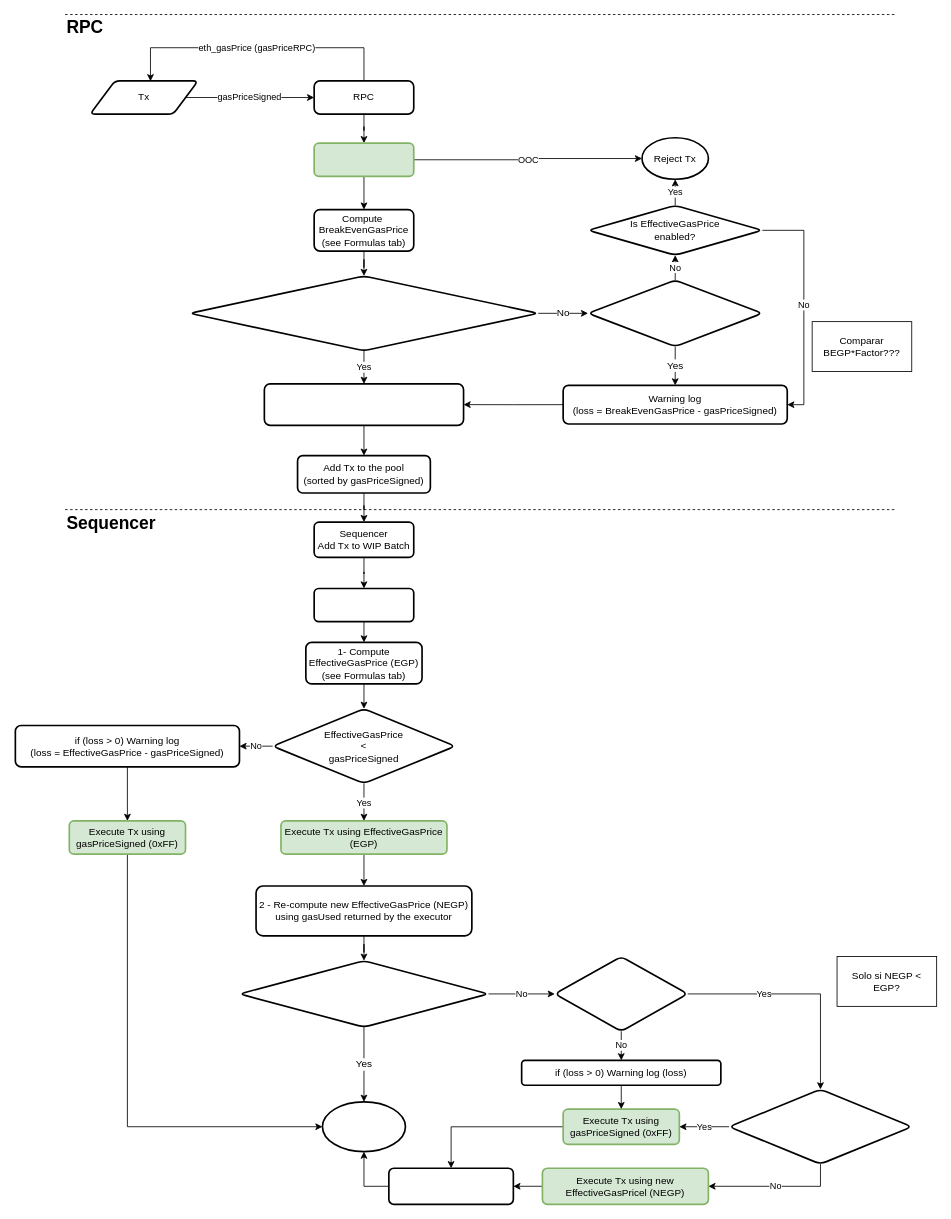
Image size: 951x1219. Some labels were removed from this diagram. The shapes that lost their labels are listed below. From the top down, each one's box as (x1, y1, x2, y2) in pixels, then its label:
(313, 142, 414, 177): pre-execute Tx
(188, 275, 539, 351): BreakEvenGasPrice*BreakEvenFactor <= gasPriceSigned
(587, 279, 763, 347): gasPriceSigned >= gasPriceRPC now
(263, 383, 464, 426): Log all info related to BreakEvenGasPrice calculation (post analysis)
(313, 587, 414, 622): Re-compute BreakEvenGasPrice
(238, 959, 489, 1028): Diff (EGP and NEGP) < finalDeviation
(554, 955, 688, 1032): NEGP < gasPriceSigned
(321, 1101, 406, 1152): End
(728, 1088, 912, 1164): has_gasprice_opcode || has_balance_opcode
(388, 1167, 514, 1205): Store EGP Log information
